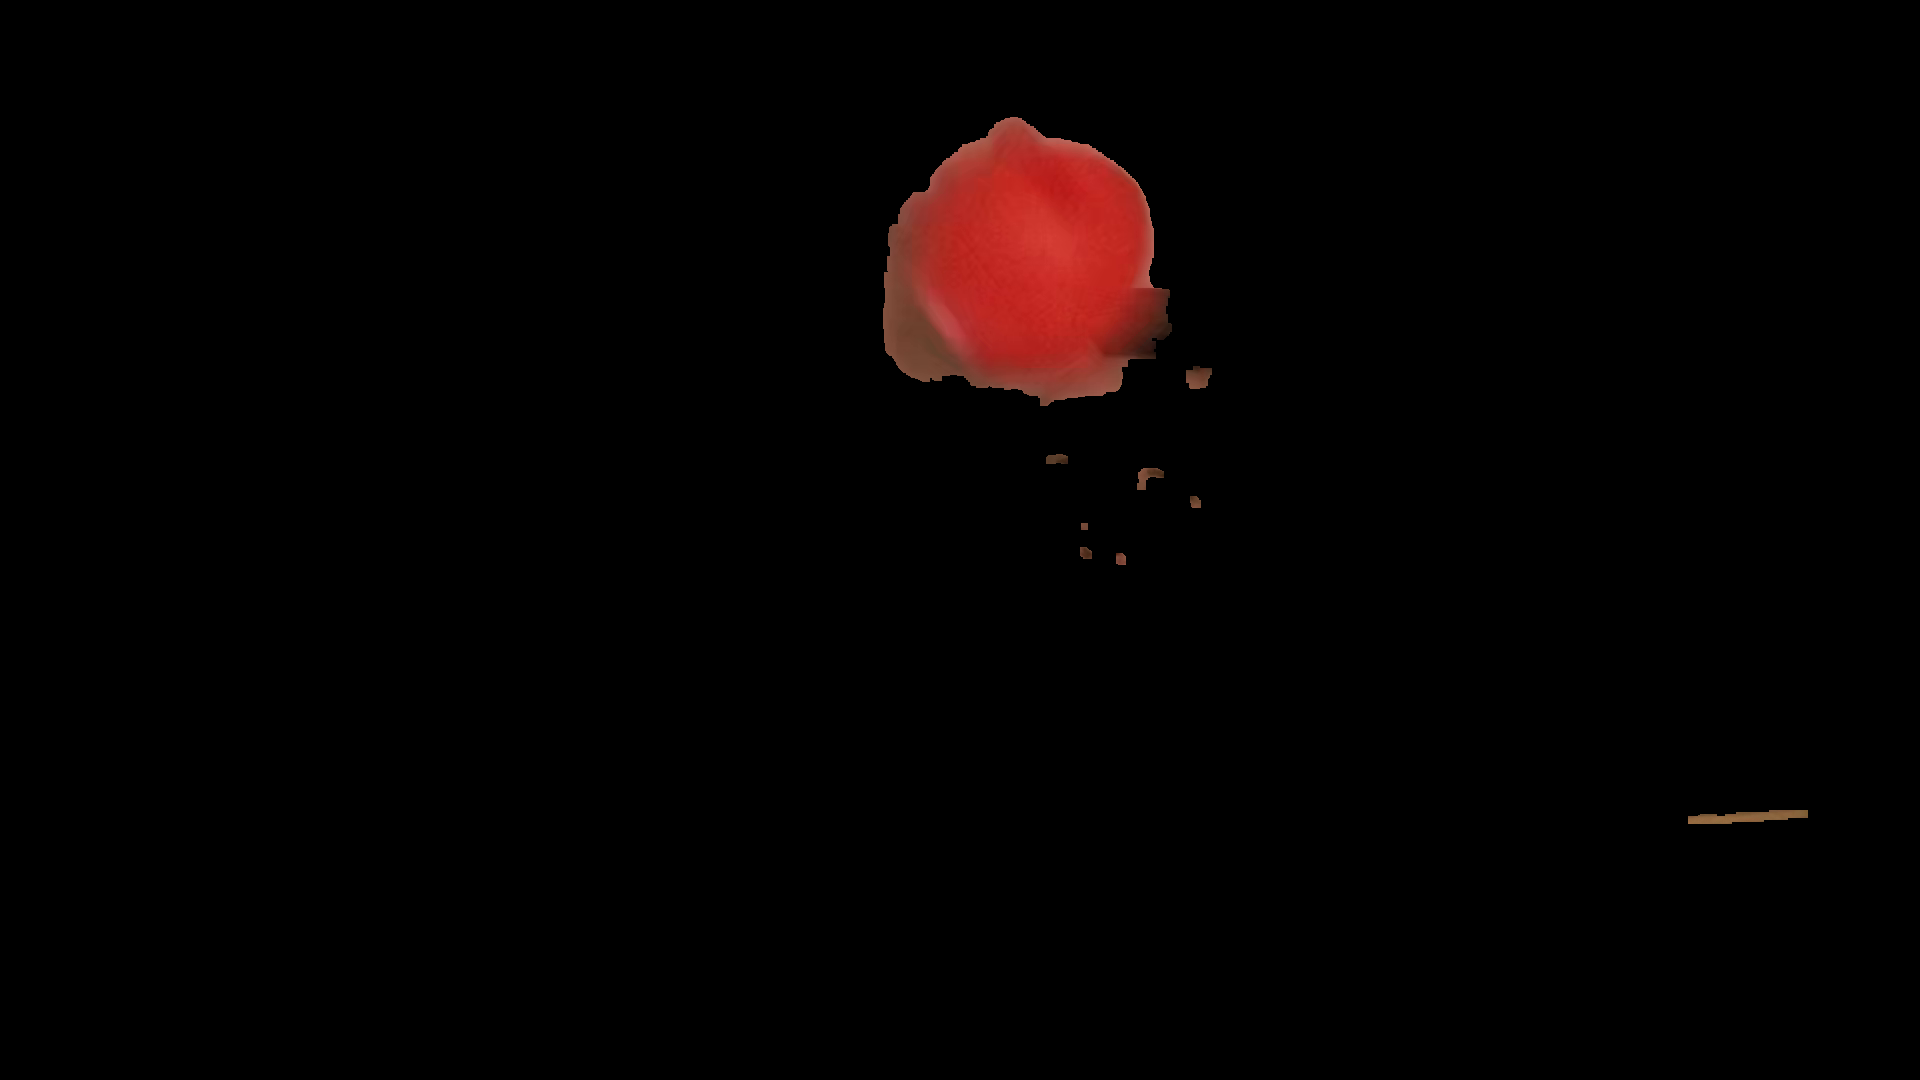Ball: (914, 117, 1155, 389)
